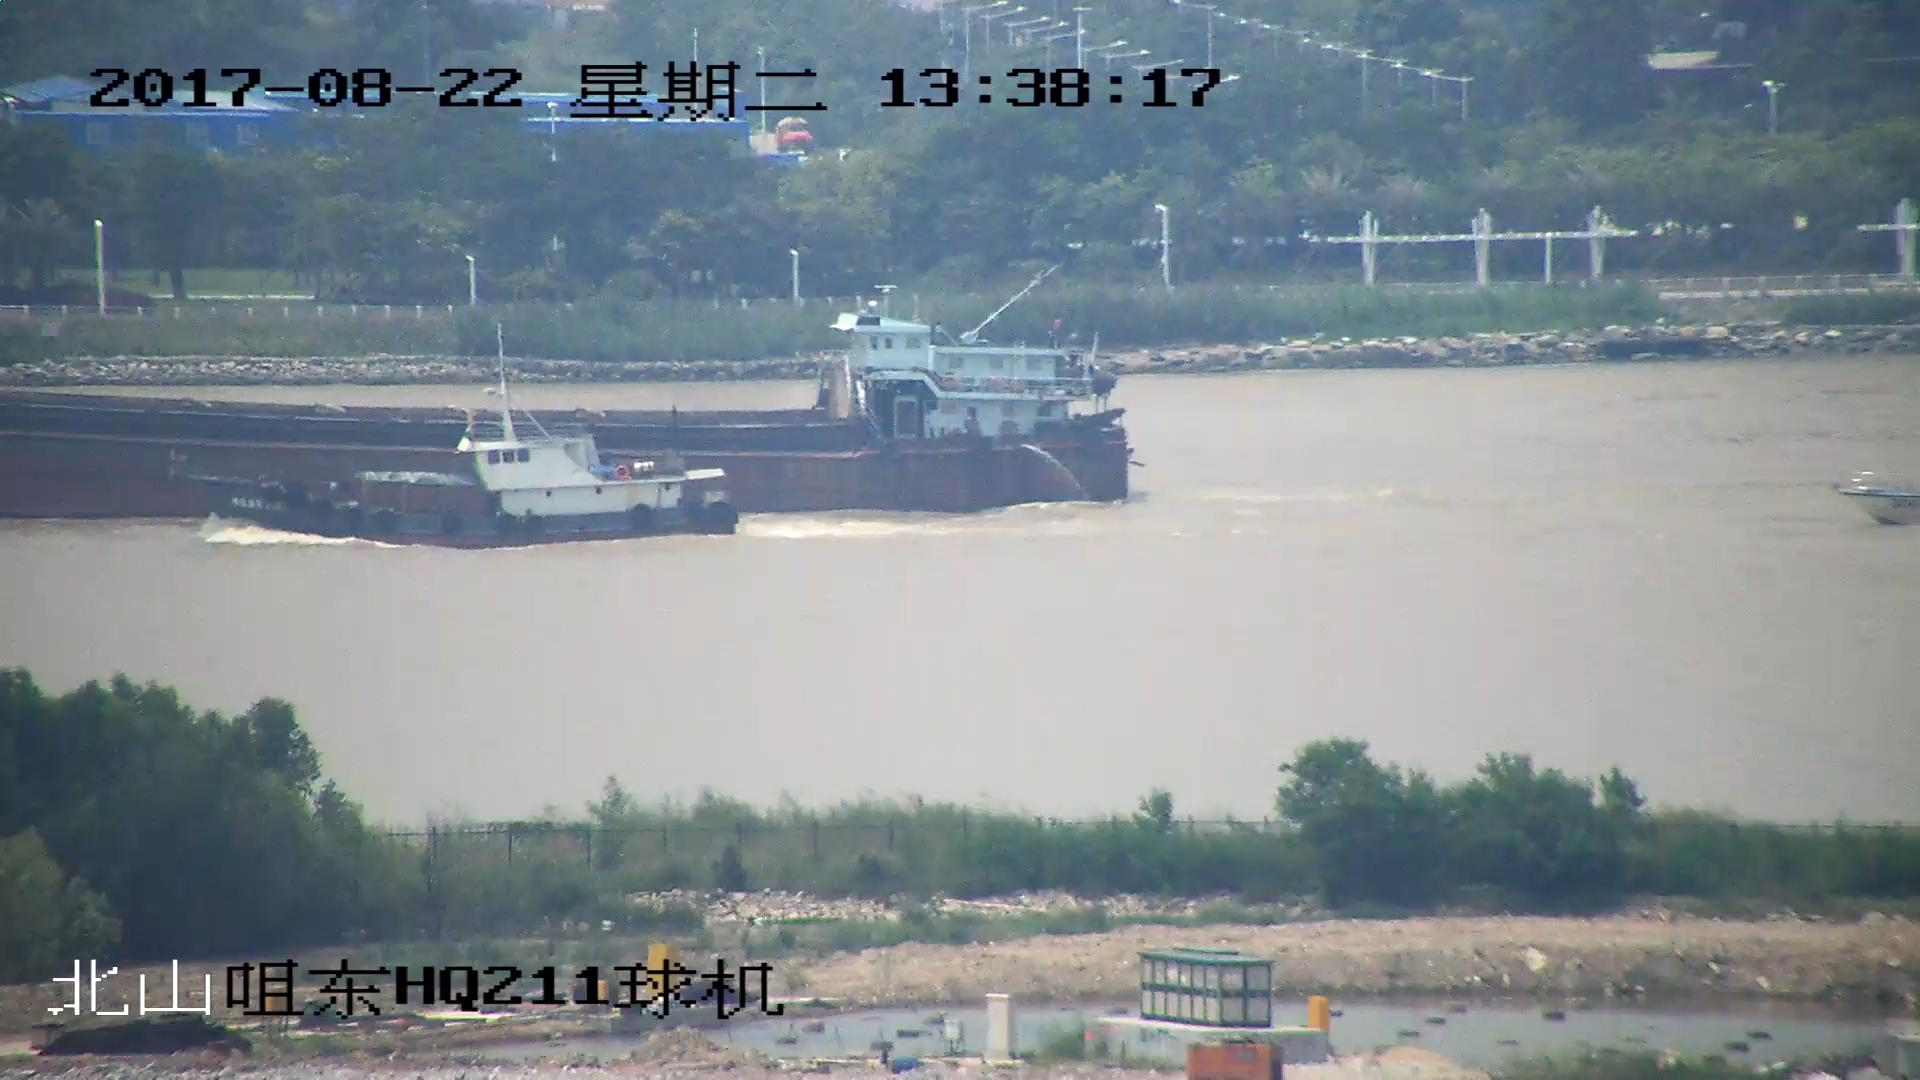bulk cargo carrier: (1, 286, 1135, 518)
passenger ship: (255, 324, 735, 550)
